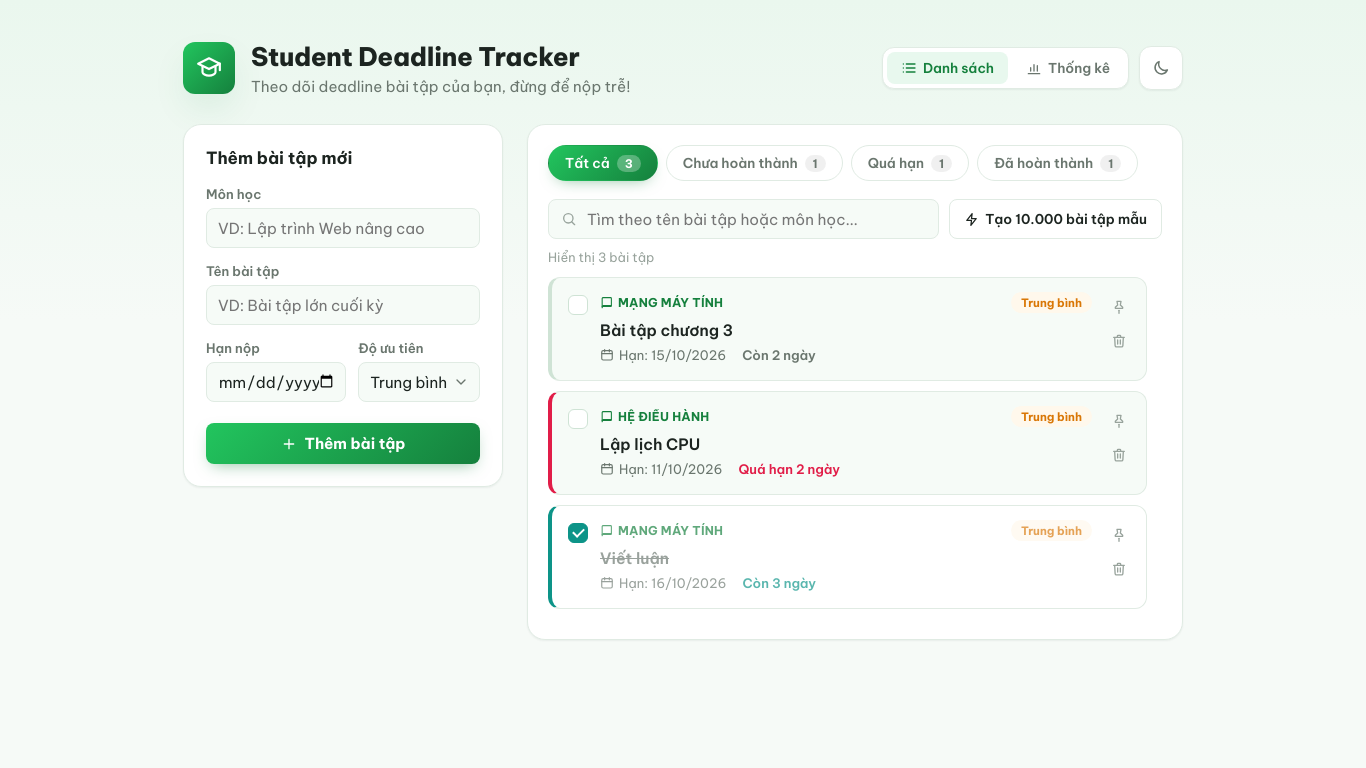
Test: App (tích hợp) › đổi theme và lưu vào localStorage
Check: the text "Hiển thị 3 bài tập" is shown, box [548,249,654,265]
Click the button named "Chuyển sang giao diện tối" at (1161, 68), box [1139,46,1183,90]
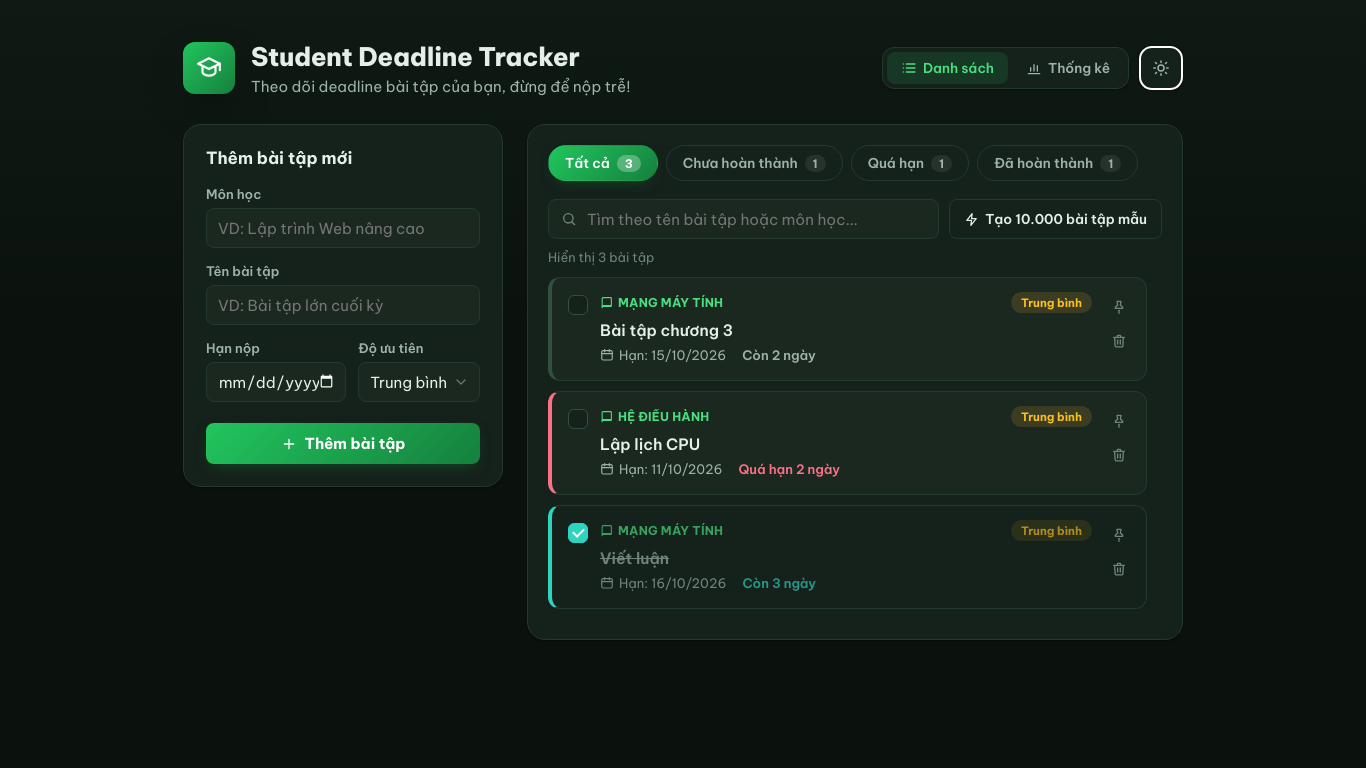
Check: the button named "Chuyển sang giao diện sáng" is shown, box [1139,46,1183,90]
